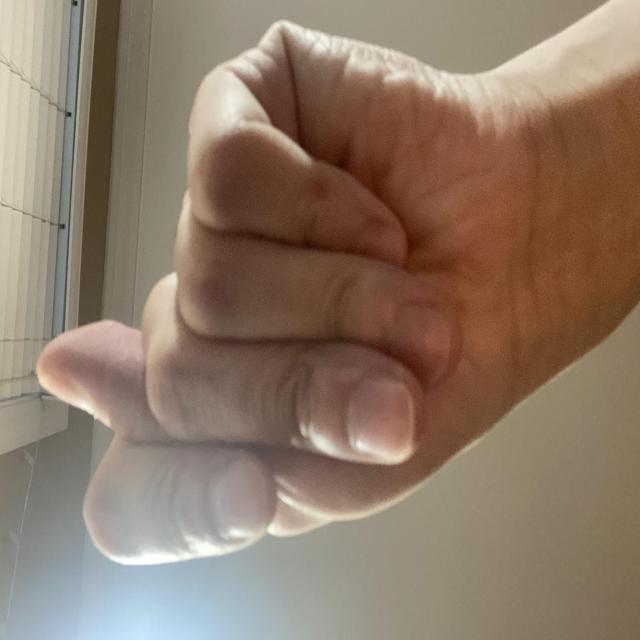T: (44, 39, 480, 640)
